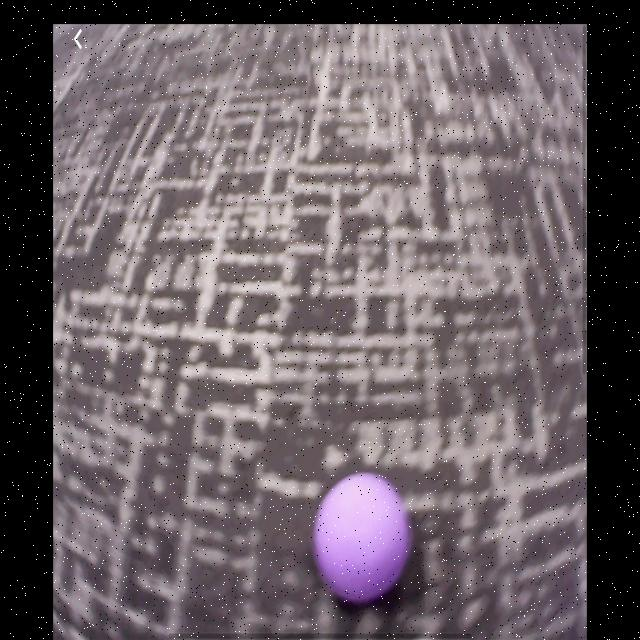ball: (312, 470, 410, 606)
